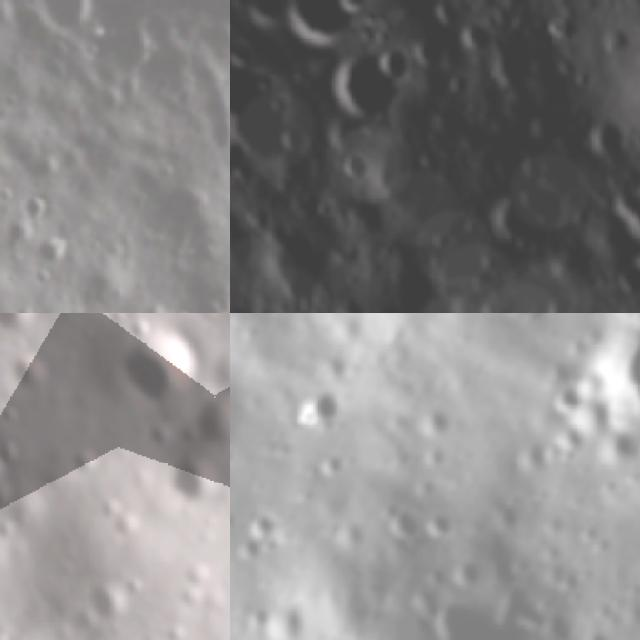crater: (316, 36, 418, 138), (114, 322, 197, 403), (424, 594, 547, 640), (598, 313, 640, 439), (516, 166, 585, 240), (106, 7, 164, 78), (579, 114, 639, 172), (458, 10, 512, 64), (371, 37, 422, 94), (38, 0, 104, 40), (182, 390, 230, 445), (333, 143, 384, 194), (170, 456, 220, 507), (594, 423, 640, 474), (381, 499, 426, 550), (408, 31, 456, 78), (302, 387, 353, 431), (82, 583, 134, 625), (259, 599, 310, 640), (5, 346, 51, 391), (526, 108, 572, 152), (536, 282, 598, 313), (230, 127, 261, 187), (33, 233, 75, 277), (545, 383, 591, 423), (422, 222, 464, 264), (548, 420, 592, 460), (442, 65, 482, 104), (248, 509, 290, 546), (5, 217, 42, 257), (620, 184, 640, 258), (611, 254, 640, 305), (426, 0, 469, 33), (424, 510, 457, 550), (187, 287, 230, 313), (21, 193, 52, 224), (0, 313, 38, 338), (0, 433, 25, 466), (457, 558, 484, 588), (237, 536, 260, 568), (33, 266, 57, 292), (126, 316, 151, 338), (424, 564, 446, 588), (0, 481, 17, 512), (0, 182, 20, 207), (230, 269, 242, 310), (165, 300, 196, 313)
